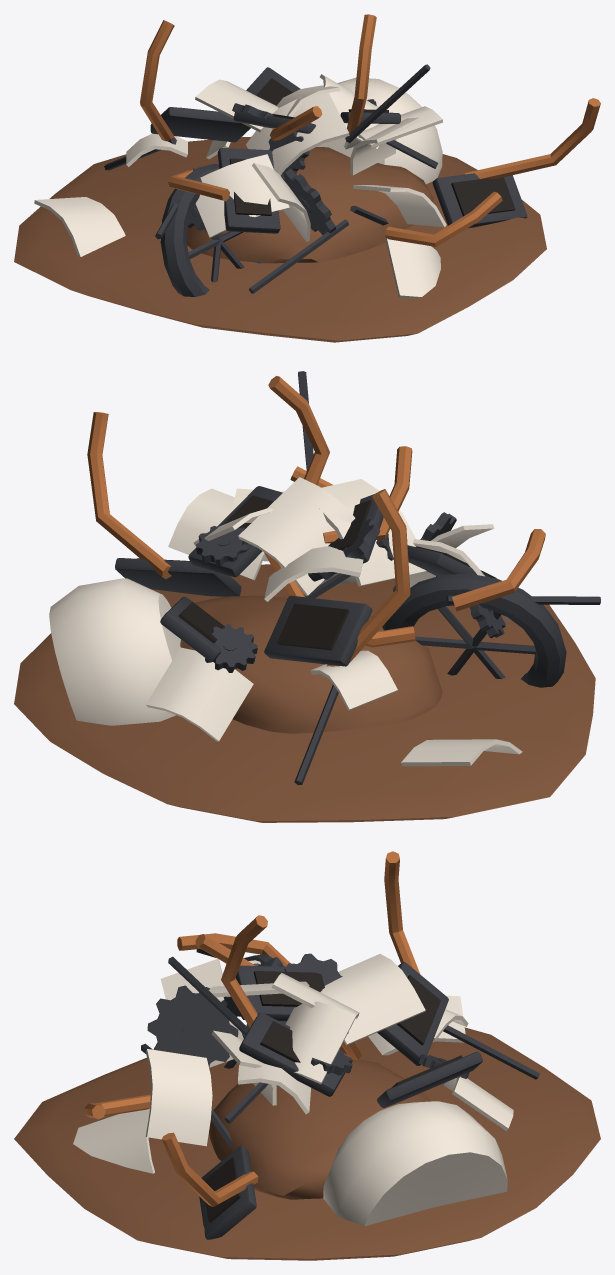
The model's file is deco_scrap_pile.fbx.
3 renders of one model, top to bottom at view 1: azimuth 30°, elevation 25°; view 2: azimuth 150°, elevation 25°; view 3: azimuth 270°, elevation 25°, orthographic. The views are drawn at different scales.
Visible parts, largest first — view 1: ScrapPile_Mound, ScrapPile_Scrap, ScrapPile_Wheel, ScrapPile_PodHalf; view 2: ScrapPile_Mound, ScrapPile_Scrap, ScrapPile_PodHalf, ScrapPile_Wheel; view 3: ScrapPile_Mound, ScrapPile_Scrap, ScrapPile_PodHalf.
Boxes of the visible parts, left/top/right/bottom form: ScrapPile_Mound: left=14, top=136, right=546, bottom=342; ScrapPile_Scrap: left=34, top=14, right=600, bottom=298; ScrapPile_Wheel: left=160, top=163, right=262, bottom=296; ScrapPile_PodHalf: left=317, top=77, right=442, bottom=184; ScrapPile_Mound: left=14, top=564, right=595, bottom=822; ScrapPile_Scrap: left=87, top=371, right=600, bottom=785; ScrapPile_PodHalf: left=49, top=578, right=180, bottom=725; ScrapPile_Wheel: left=382, top=573, right=566, bottom=687; ScrapPile_Mound: left=14, top=1027, right=600, bottom=1260; ScrapPile_Scrap: left=73, top=851, right=539, bottom=1239; ScrapPile_PodHalf: left=323, top=1101, right=507, bottom=1226.
Bounding box in the file's own units: 300 × 144 × 280.
